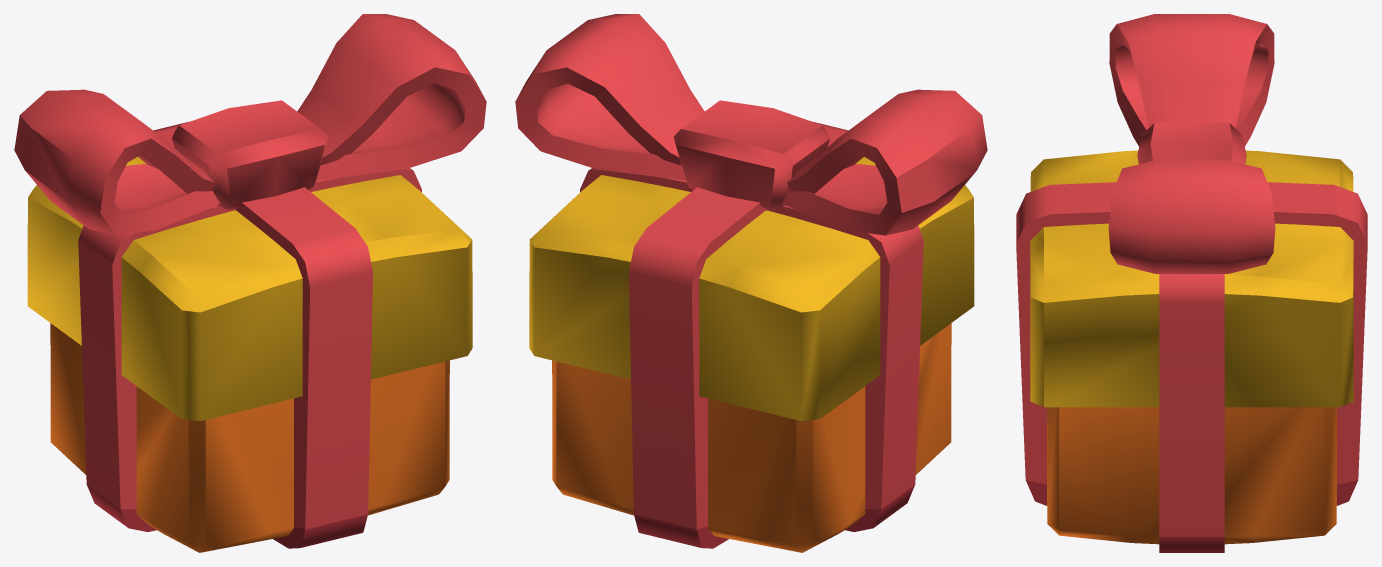
The model's file is presente_natal_laranja_fita_vermelha_pacote.glb.
The picture shows the model from 3 angles, left to right: view 1: azimuth 30°, elevation 25°; view 2: azimuth 150°, elevation 25°; view 3: azimuth 270°, elevation 25°; orthographic projection. The views are drawn at different scales.
Parts seen in each view (by area): view 1: presente_natal_laranja_fita_vermelha_pacote; view 2: presente_natal_laranja_fita_vermelha_pacote; view 3: presente_natal_laranja_fita_vermelha_pacote.
Boxes of the visible parts, x1=… form: presente_natal_laranja_fita_vermelha_pacote: x1=14, y1=14, x2=486, y2=552; presente_natal_laranja_fita_vermelha_pacote: x1=515, y1=14, x2=987, y2=552; presente_natal_laranja_fita_vermelha_pacote: x1=1016, y1=14, x2=1367, y2=552.
Size of the model in its own units: 0.2976 by 0.3 by 0.2313.
1 material, 1 textured.
